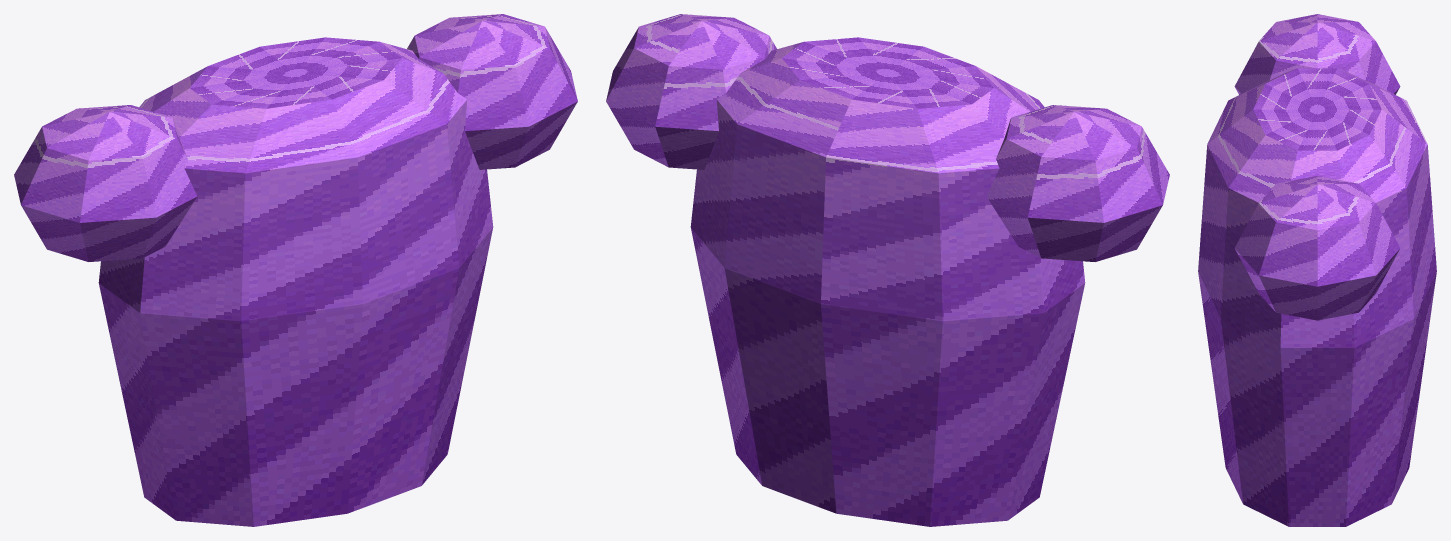
File: peitoral_de_ametista.glb
3 renders of one model, left to right at view 1: azimuth 30°, elevation 25°; view 2: azimuth 150°, elevation 25°; view 3: azimuth 270°, elevation 25°, orthographic. The views are drawn at different scales.
Visible parts, largest first — view 1: peitoral_de_ametista; view 2: peitoral_de_ametista; view 3: peitoral_de_ametista.
Boxes of the visible parts, x1,y1,x2,y2 form: peitoral_de_ametista: (14, 14, 577, 526); peitoral_de_ametista: (606, 14, 1169, 526); peitoral_de_ametista: (1198, 14, 1436, 526).
Size of the model in its own units: 0.886 by 0.6305 by 0.3744.
1 material, 1 textured.
